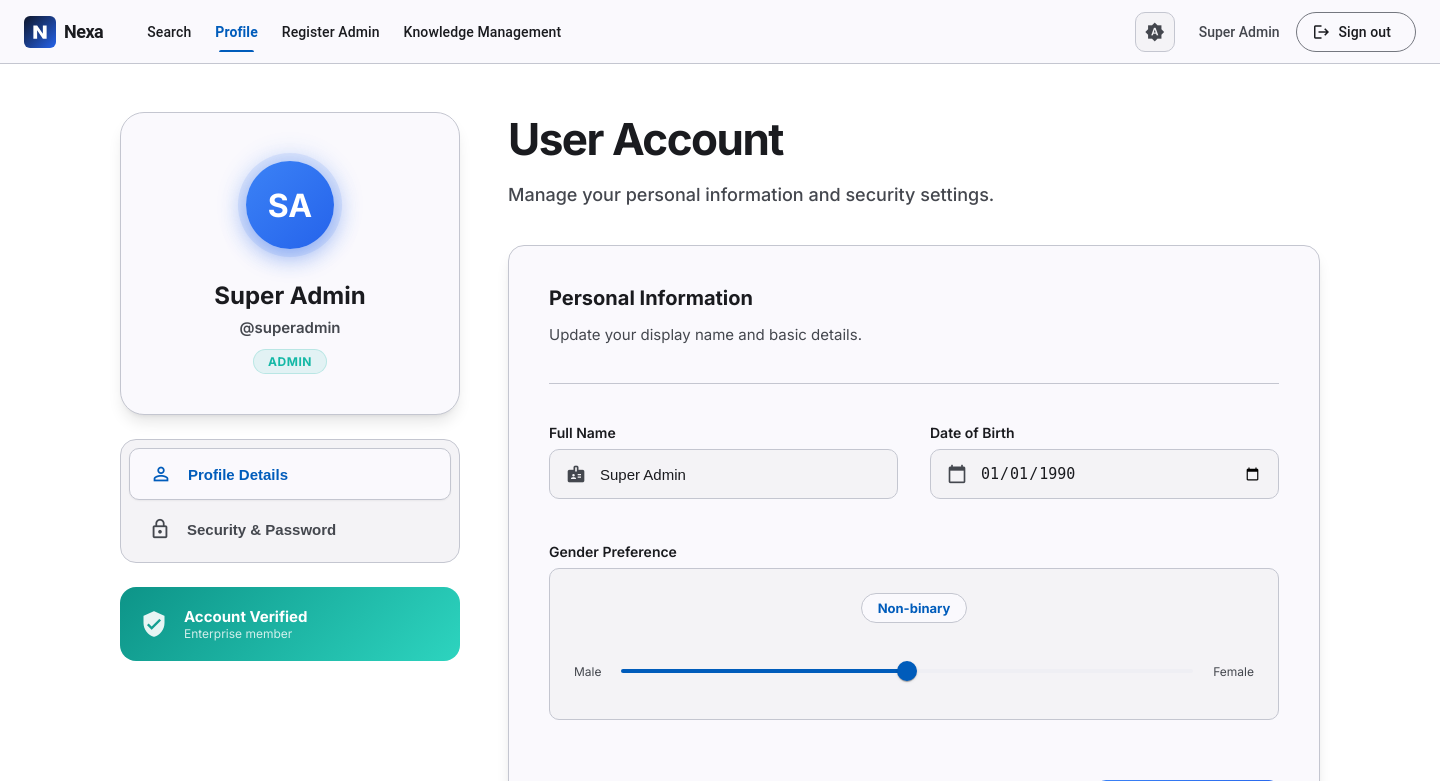
Test case: Profile Management › should be able to navigate to the Security tab to change their password
This screenshot has width=1440, height=781.
Click the button "Security & Password". click: (290, 529)
box: [129,504,451,554]
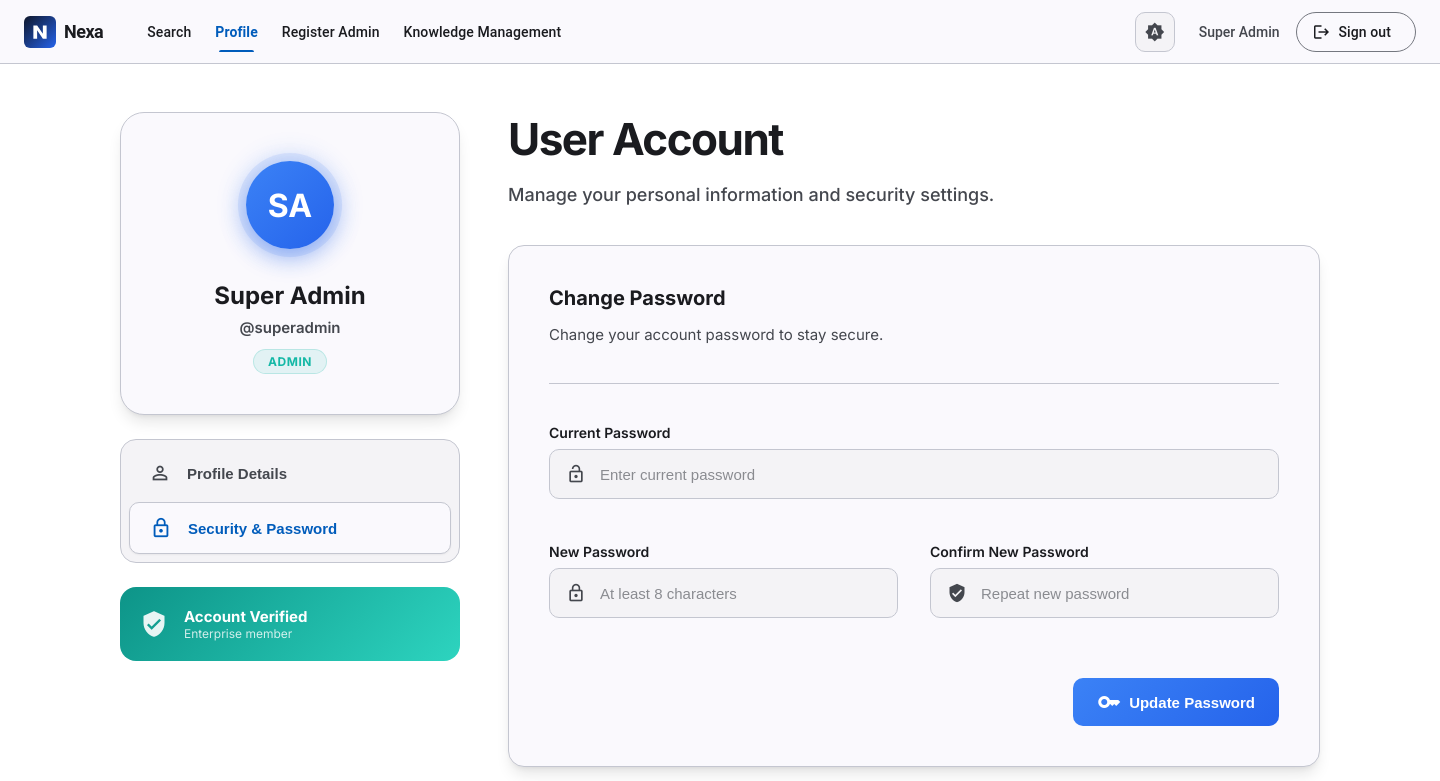
Check: the heading "Change Password" is shown, box [549,286,726,310]
Check: the password field with id "s-current" is shown, box [598,450,1262,498]
Check: the password field with id "s-new" is shown, box [598,569,881,617]
